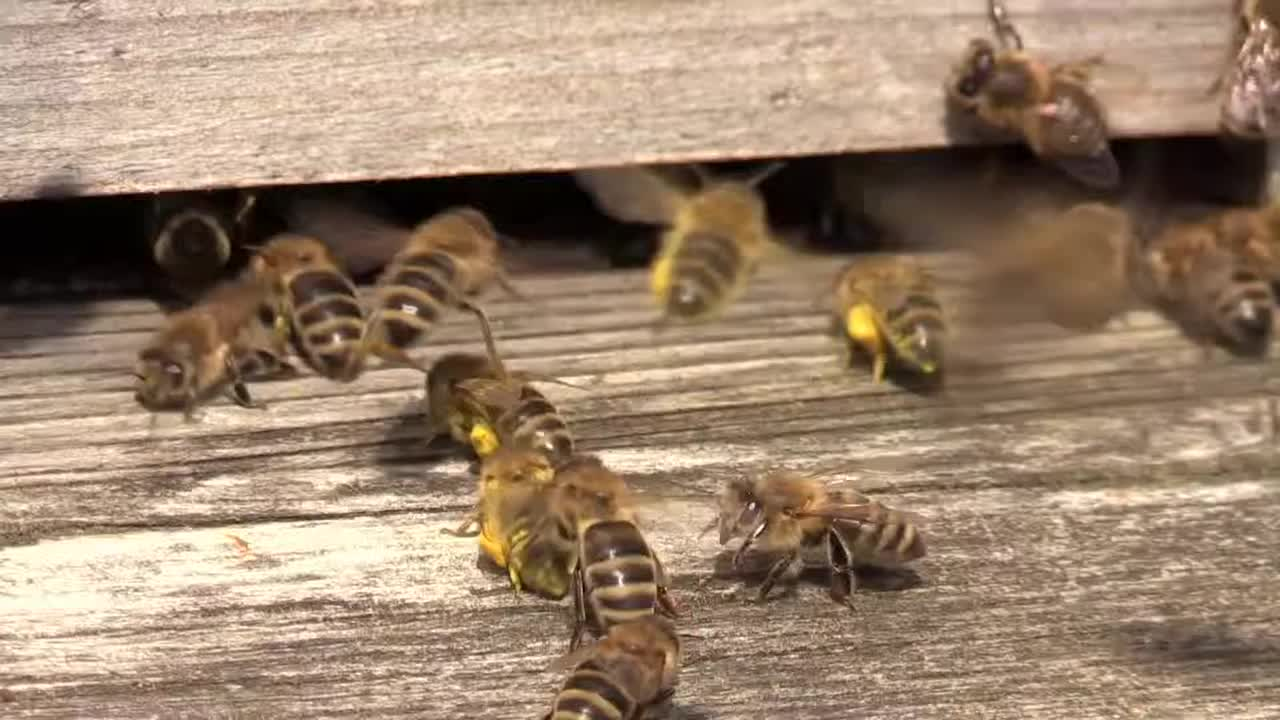pollen: (423, 344, 593, 465), (646, 176, 774, 326), (820, 254, 959, 389)
